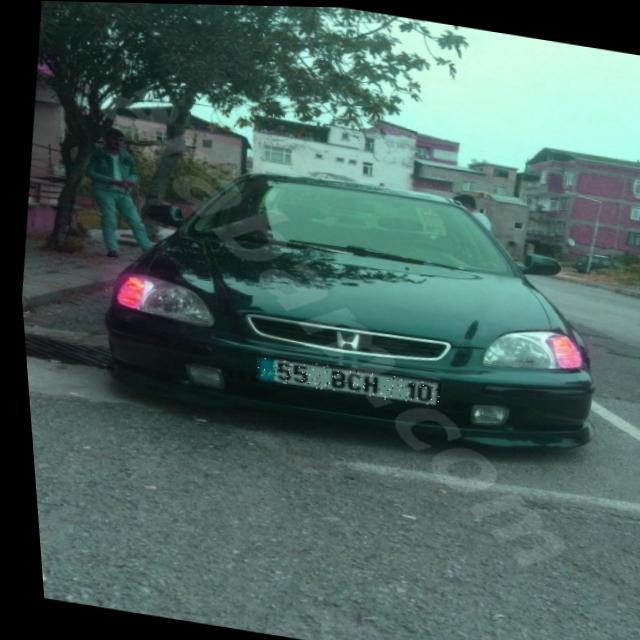license_plate: (250, 353, 437, 406)
